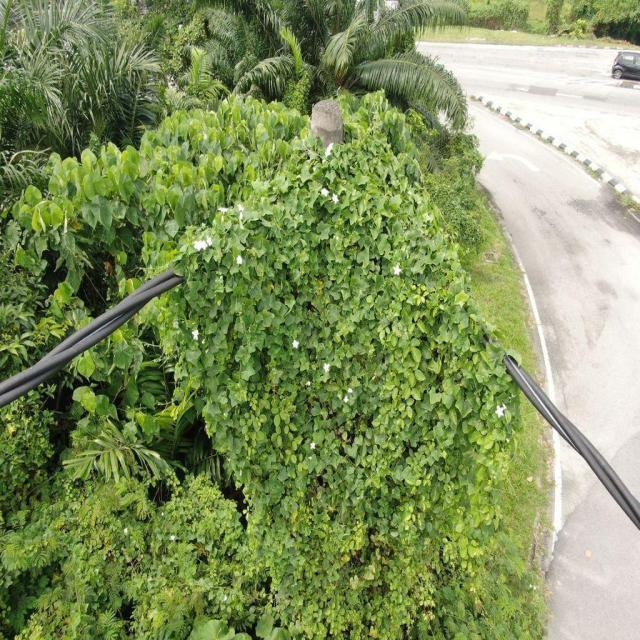critical vegetation: (158, 93, 533, 602)
